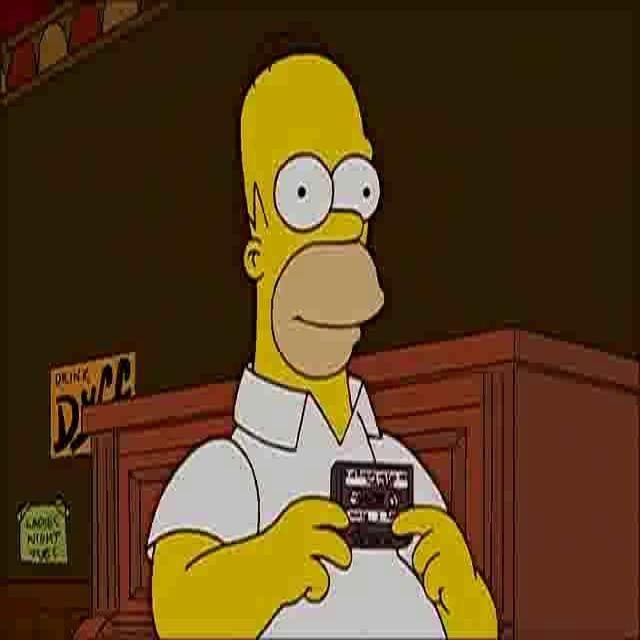Homer Simpson: (238, 52, 389, 396)
